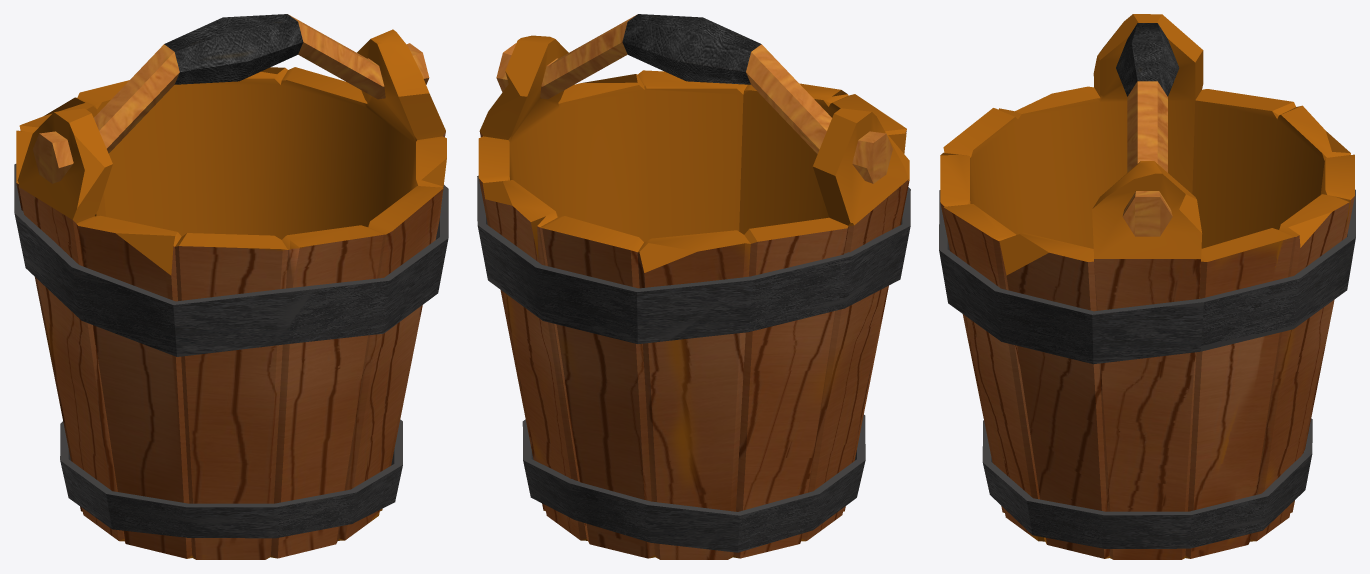
Rendered from bucket.fbx.
3 renders of one model, left to right at view 1: azimuth 30°, elevation 25°; view 2: azimuth 150°, elevation 25°; view 3: azimuth 270°, elevation 25°, orthographic. The views are drawn at different scales.
Visible parts, largest first — view 1: bucket; view 2: bucket; view 3: bucket.
Boxes of the visible parts, left/top/right/bottom form: bucket: left=14, top=14, right=448, bottom=559; bucket: left=477, top=14, right=910, bottom=559; bucket: left=939, top=14, right=1355, bottom=559.
Size of the model in its own units: 98.97 by 119 by 98.61.
